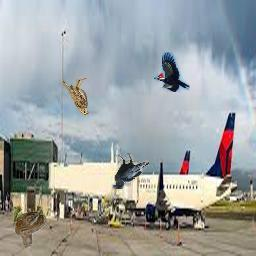Crow: (112, 153, 149, 189)
Sparrow: (11, 206, 46, 246), (61, 76, 89, 116)
Woodpecker: (154, 52, 190, 92)
